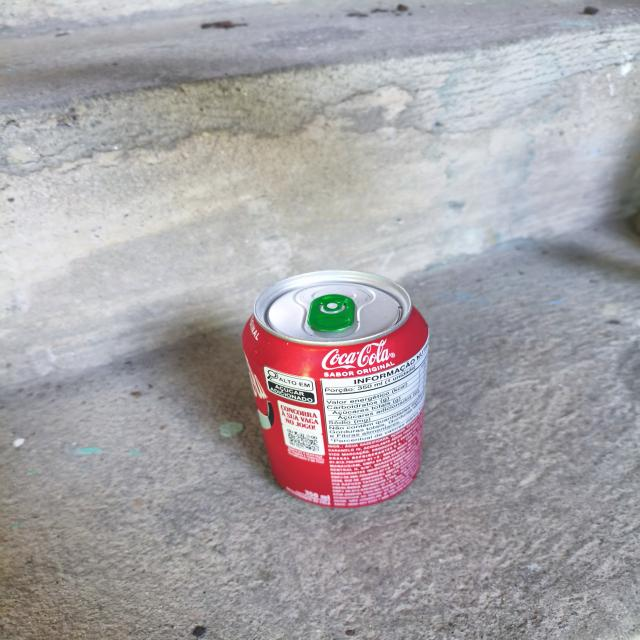Coca Cola: (218, 243, 502, 548)
